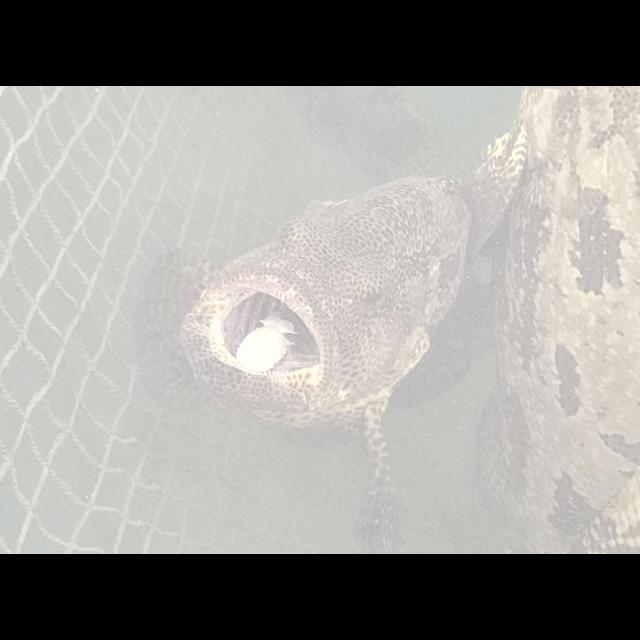Groupers: (145, 116, 555, 554)
